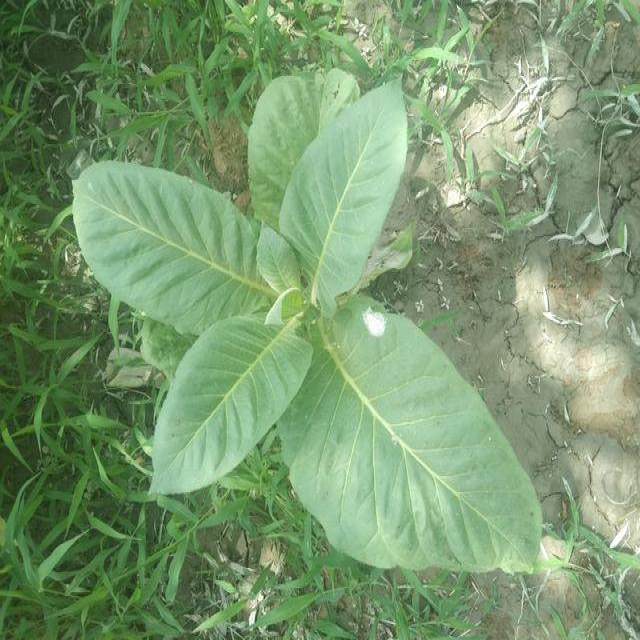crop: (68, 62, 543, 578)
